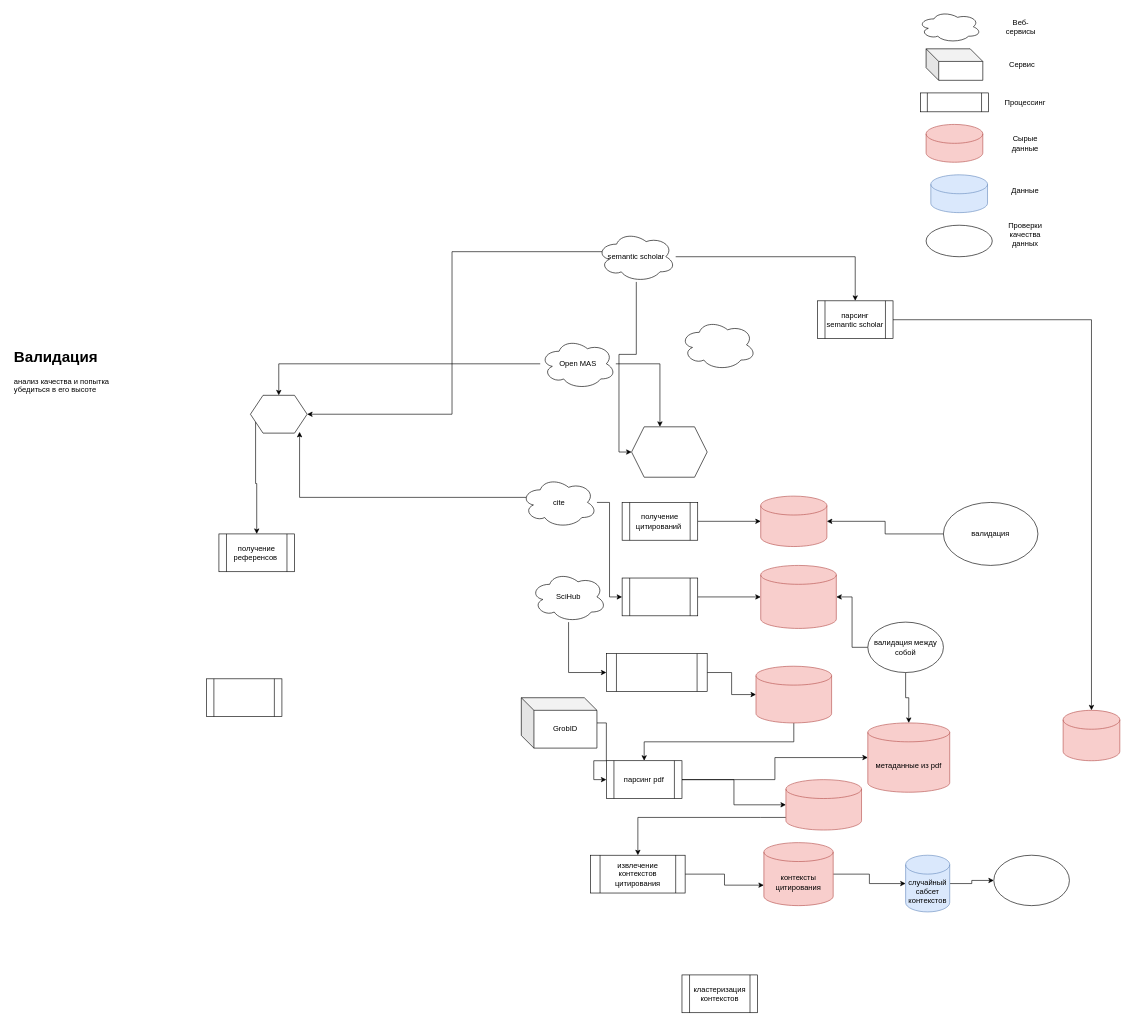
Image size: 1131x1024. Some labels were removed from this diagram. Here are the shapes that lost their labels. From the top down, the box of each, then its label:
(680, 319, 756, 370): Google Scholar
(760, 495, 827, 547): список статей
(621, 577, 698, 616): получение полных метаданных
(760, 565, 836, 628): полные метаданные статей
(606, 653, 707, 691): сбор pdf
(755, 666, 832, 723): pdf
(785, 779, 862, 830): тексты из pdf
(993, 855, 1069, 906): ручная валидация
